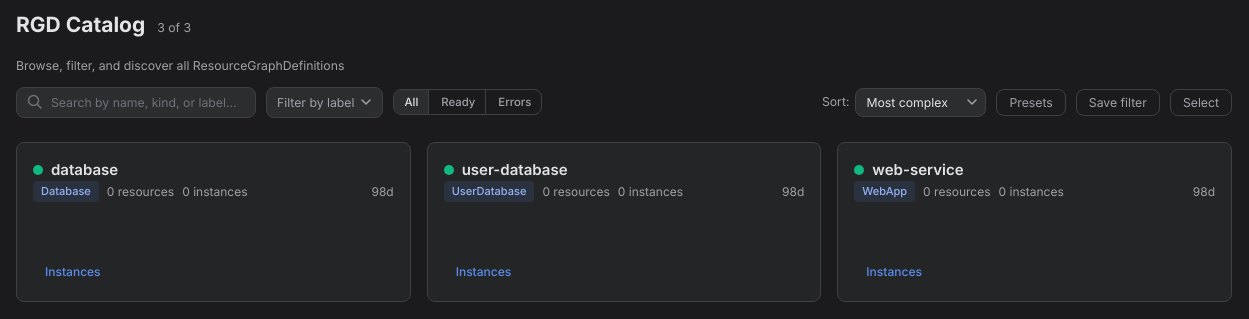
Scenario: Catalog › filters by search term across name and kind
The width and height of the screenshot is (1249, 319).
expect the element with test id "catalog-card-database" is shown: met, box 16,142 -> 411,302
# Type "database" — should show 2 results, hide web-service
Step 1. Type "database" into the search field → (153, 102), box 51,88 -> 255,117
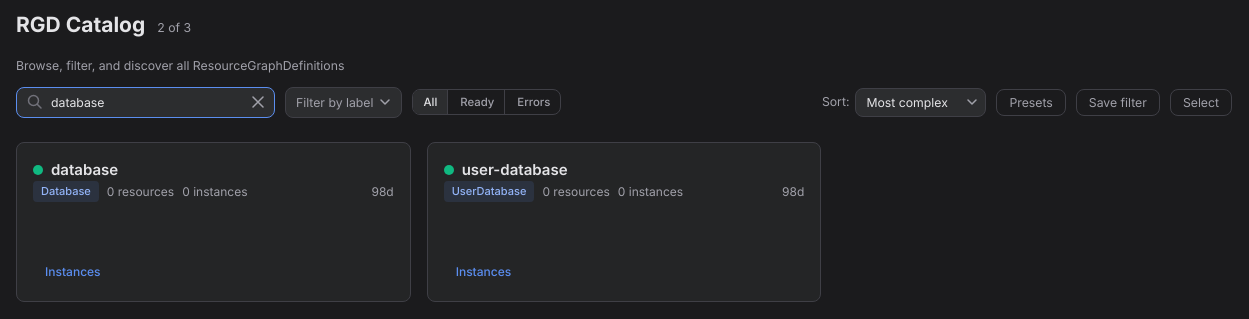
expect the element with test id "catalog-card-database" is shown: met, box 16,142 -> 411,302
expect the element with test id "catalog-card-web-service" is gone: met
